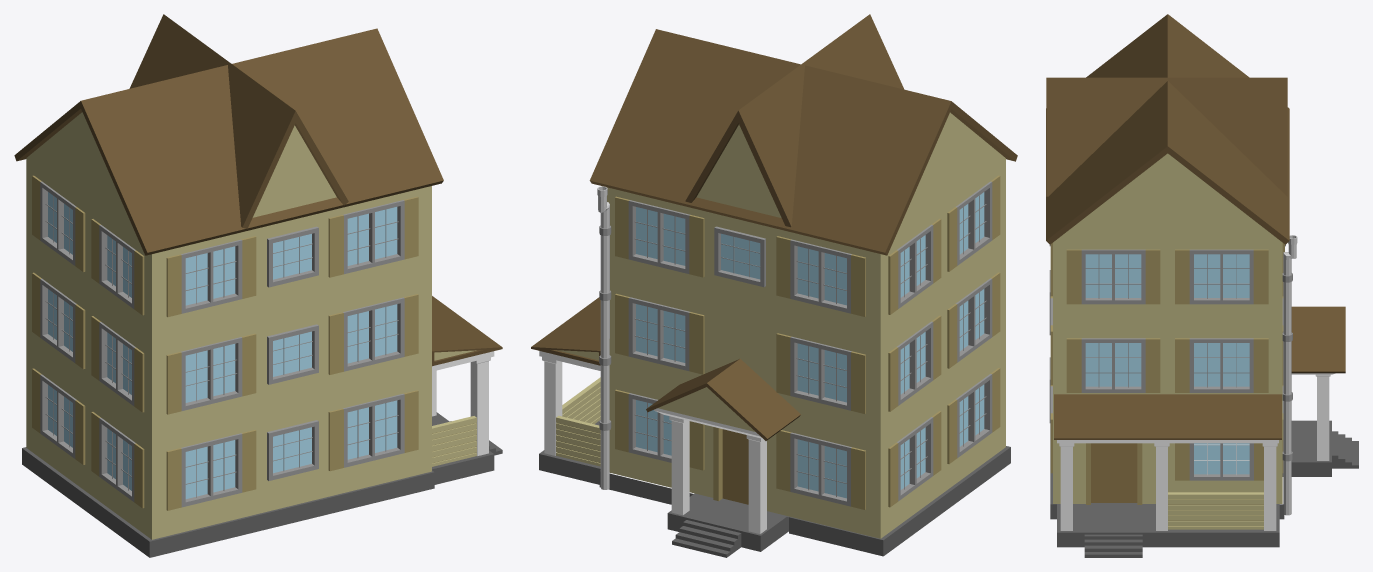
Rendered from house7-transformed.glb.
3 renders of one model, left to right at view 1: azimuth 30°, elevation 25°; view 2: azimuth 150°, elevation 25°; view 3: azimuth 270°, elevation 25°, orthographic. The views are drawn at different scales.
Parts seen in each view (by area): view 1: building.043; view 2: building.043; view 3: building.043.
Boxes of the visible parts, x1=… form: building.043: x1=14, y1=14, x2=502, y2=557; building.043: x1=531, y1=14, x2=1017, y2=557; building.043: x1=1046, y1=14, x2=1358, y2=557.
Size of the model in its own units: 12.09 by 12.71 by 9.52.
1 material, 1 textured.
